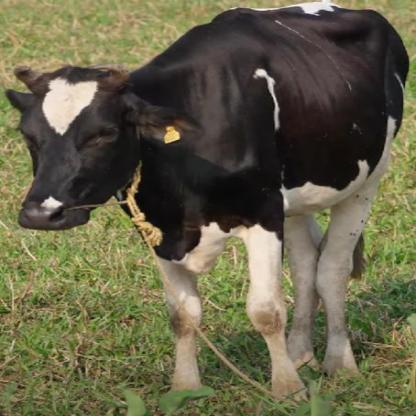cow: (7, 2, 409, 410)
